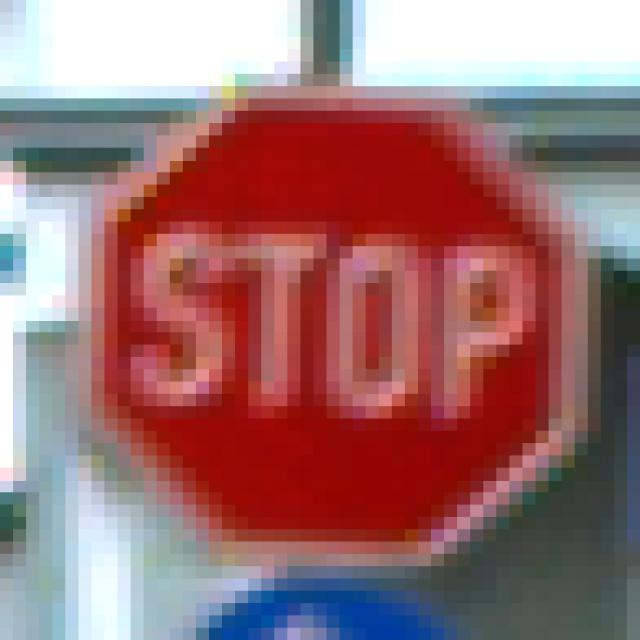STOP: (66, 75, 563, 567)
